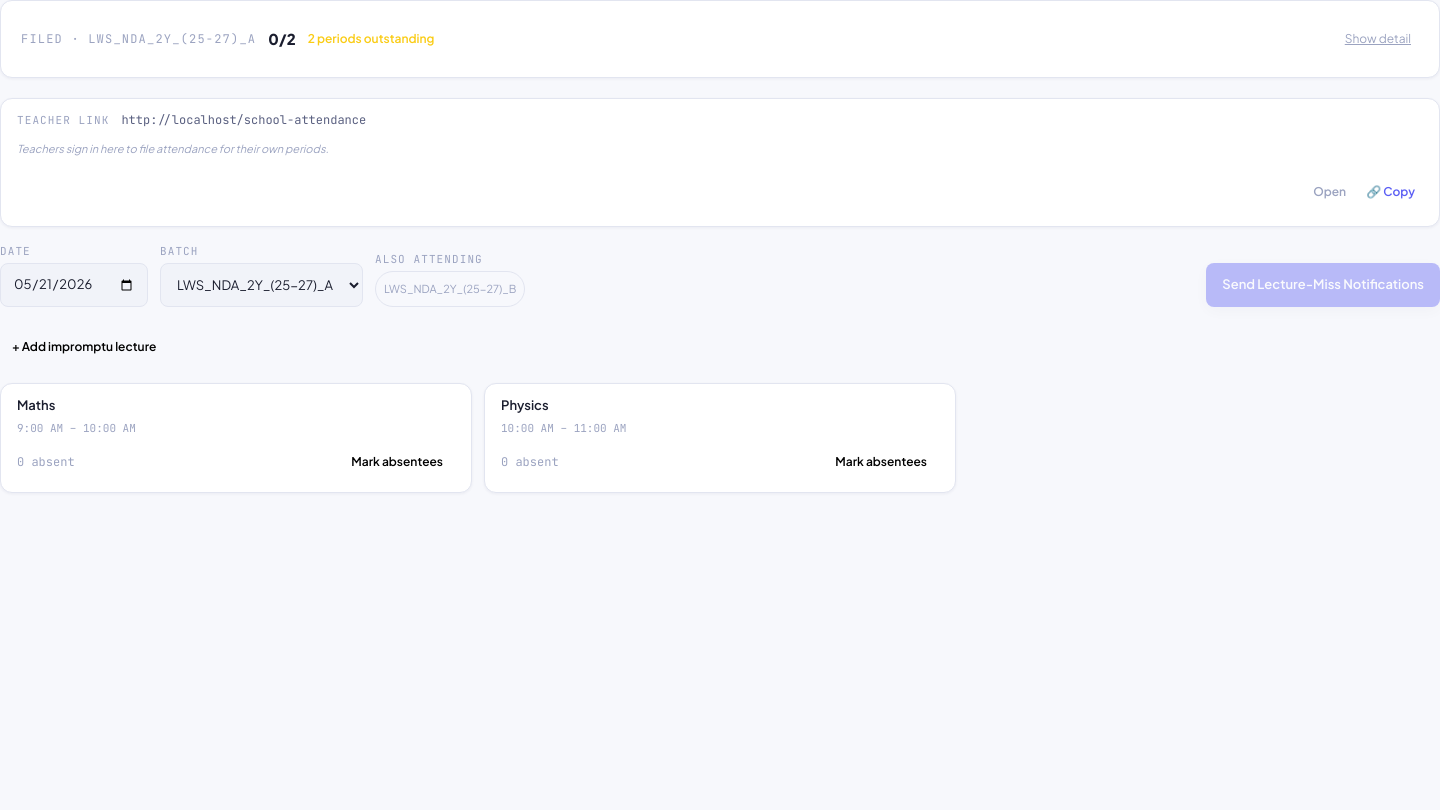
it: LectureLogTab — pooled roster + leave-awareness › pooling an "Also attending" batch unions its students into the modal roster
# Karan (batch B) is not in the roster until pooled.
Click the 1st button "Mark absentees" at (397, 462), box 339,444 -> 455,480
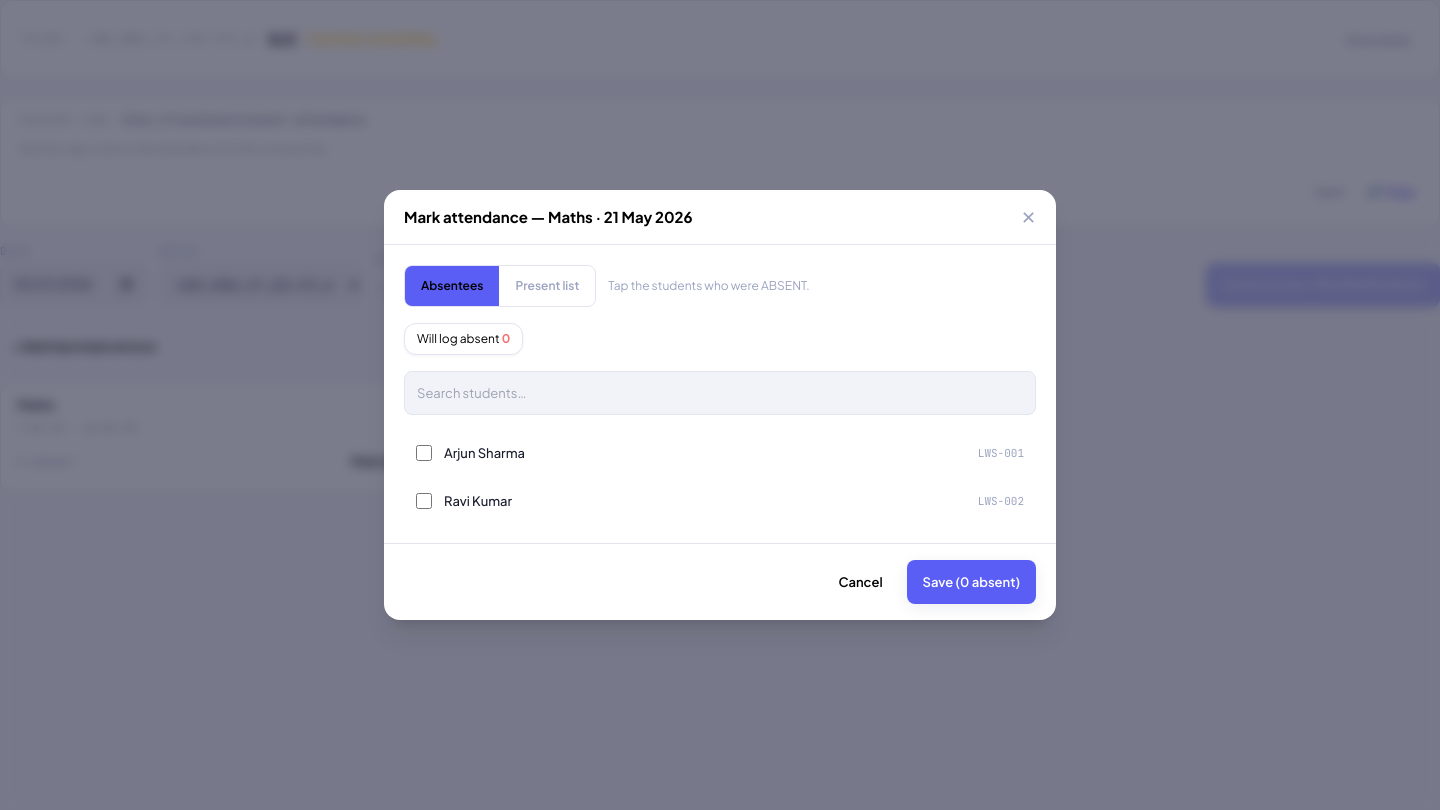
Expected: the field labelled "Karan Mehta" is not shown
Click the button "Cancel" at (861, 582), box 822,560 -> 899,604
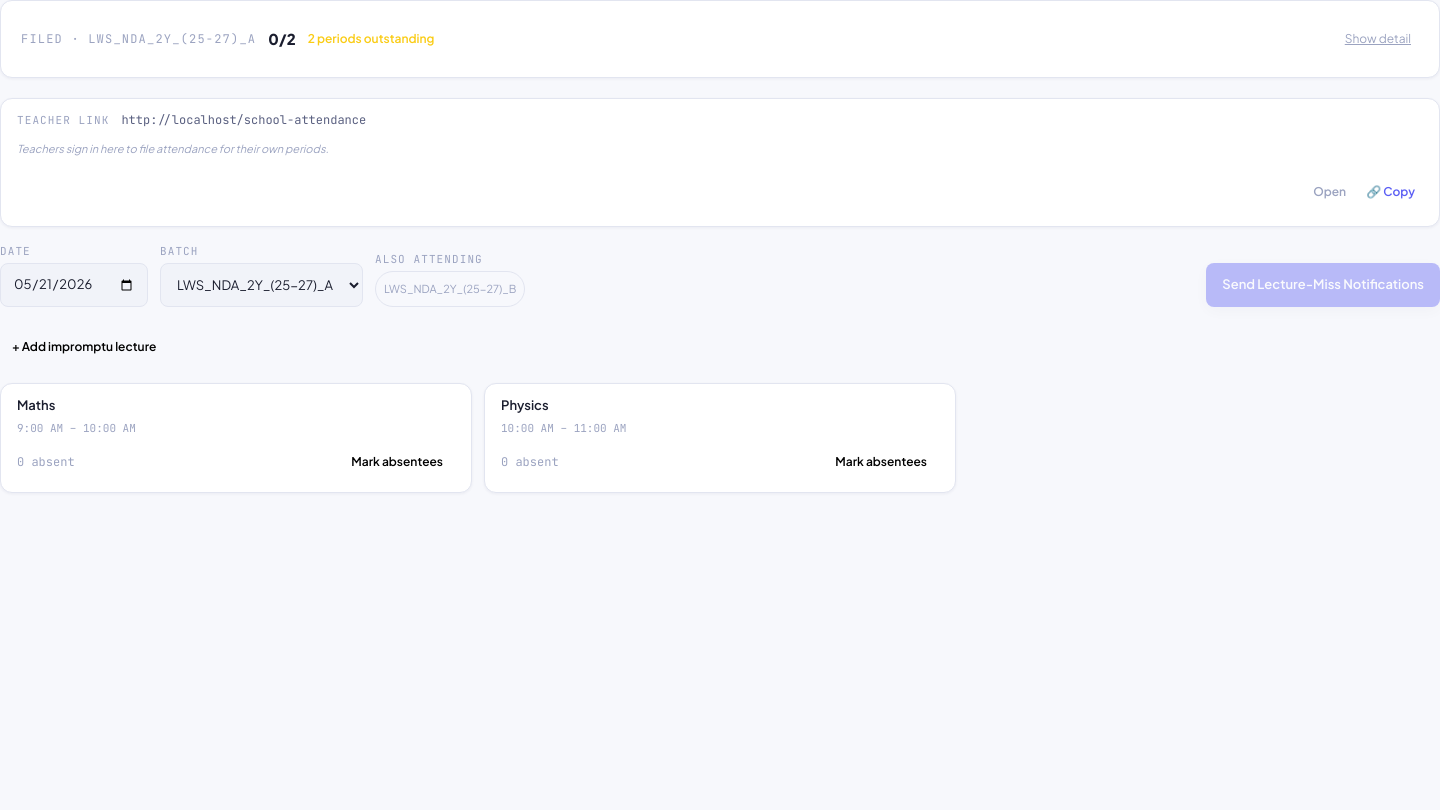
# Pool batch B → Karan joins the roster.
Click the button "LWS_NDA_2Y_(25-27)_B" at (450, 289), box 375,271 -> 526,307
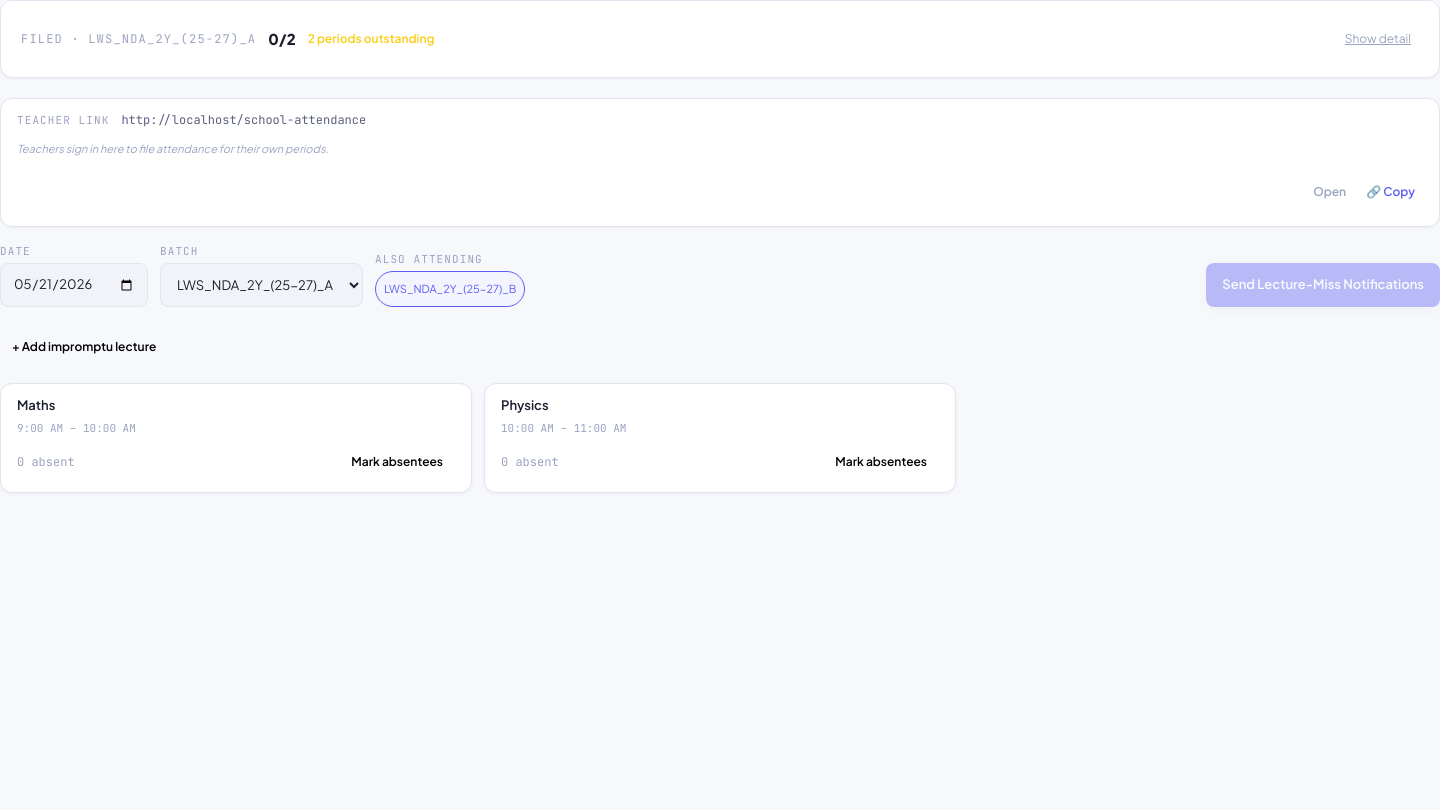
Click the 1st button "Mark absentees" at (397, 462), box 339,444 -> 455,480
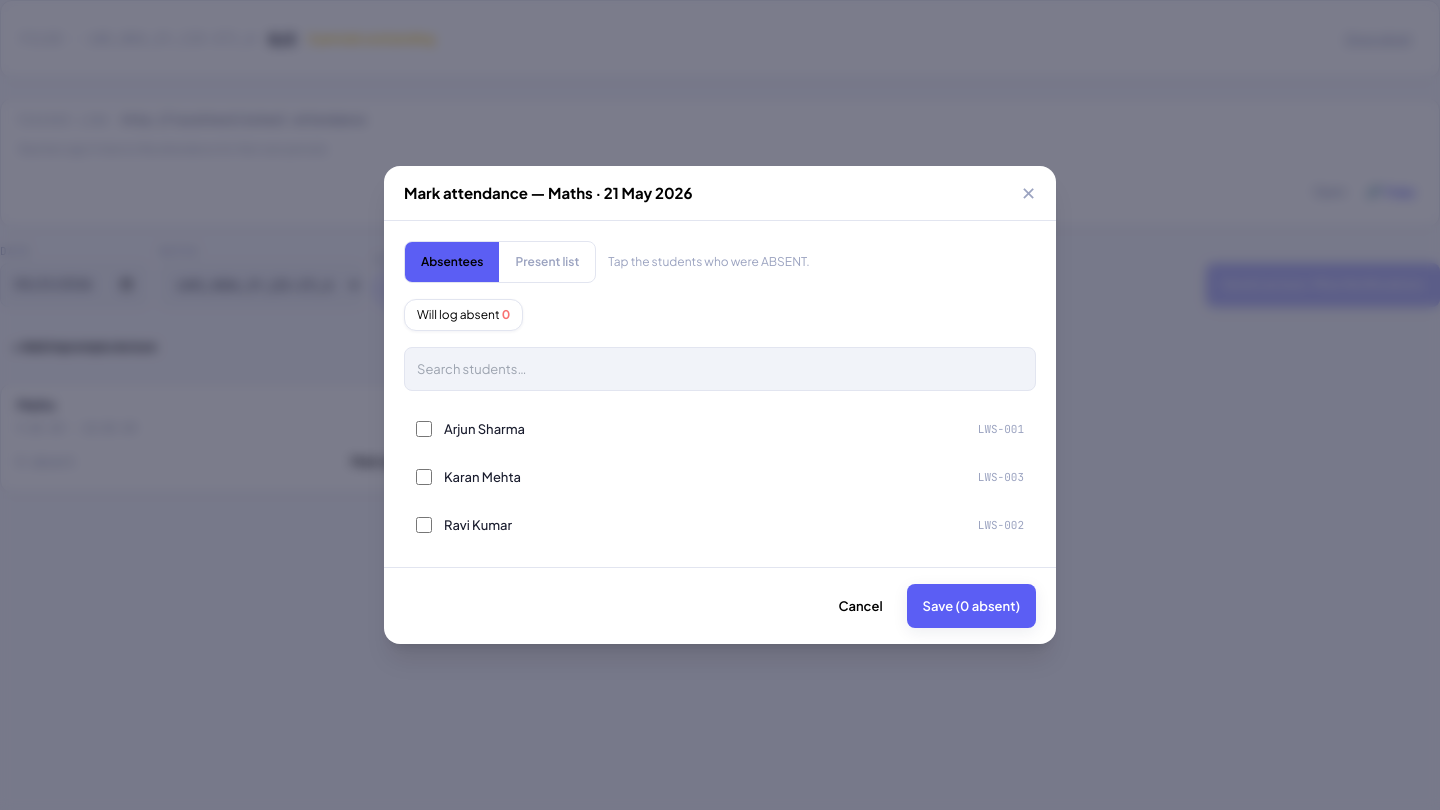
Result: the checkbox labelled "Karan Mehta LWS-003" is shown at 416,469 -> 432,485
